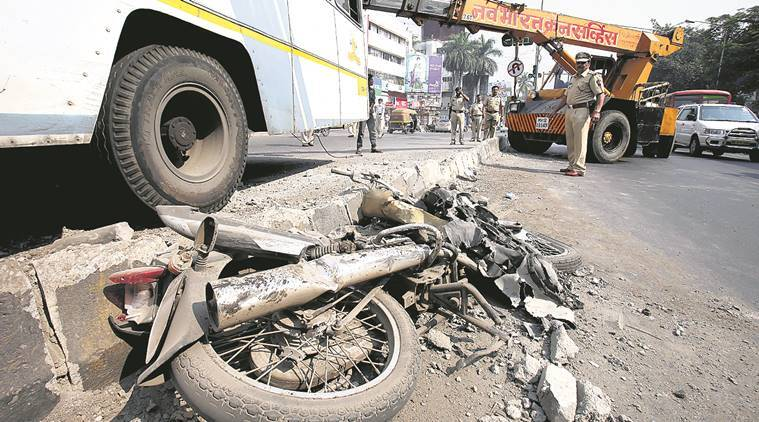accident: (139, 194, 551, 379)
